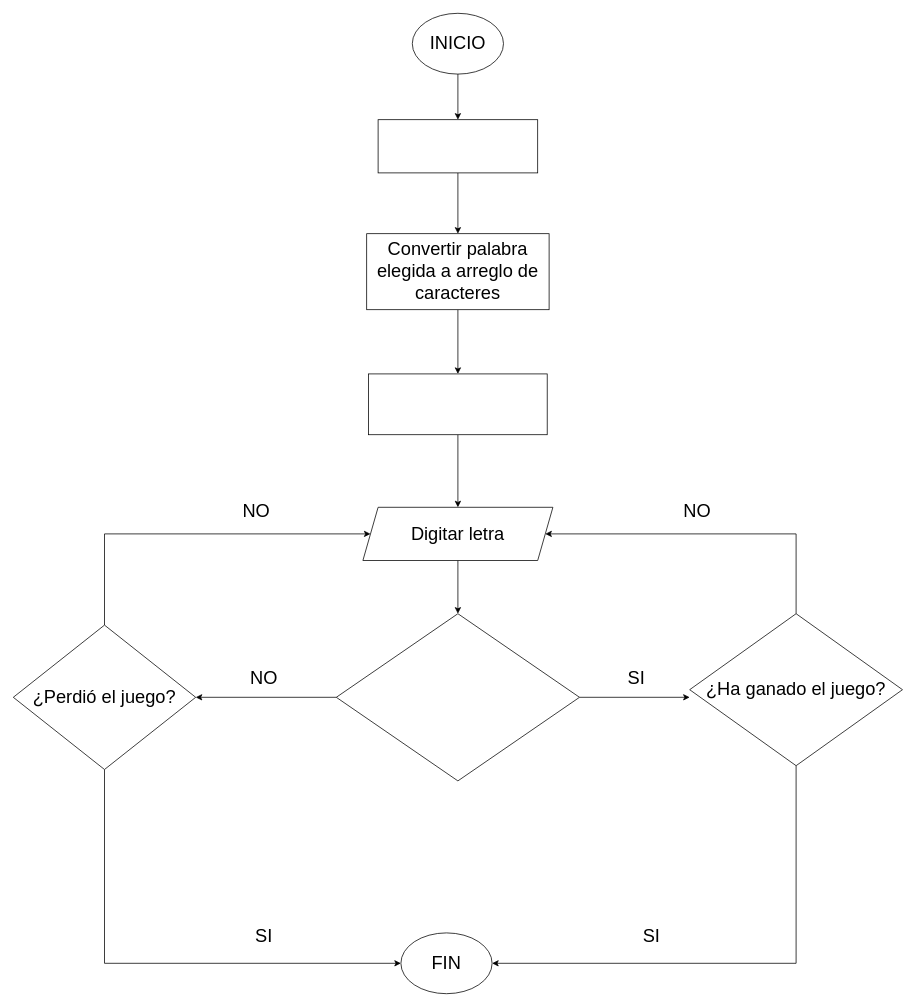
Some shapes in this 916 by 1007 pixel diagram are drawn without their labels. The centre of each missing label's shape, as x and y in pixels:
Dibujar guiones en pantalla: point 457,404
Seleccionar parlabra al azar: point 457,146
¿Letra forma parte de la palabra?: point 458,697
